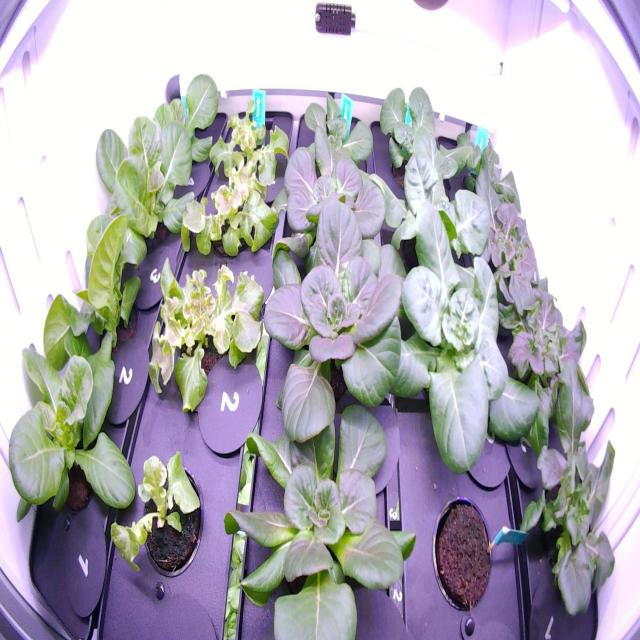pod: (427, 488, 498, 618)
young: (216, 383, 426, 640), (374, 194, 546, 483), (258, 194, 416, 451), (0, 303, 141, 534), (76, 108, 202, 290), (38, 200, 158, 374), (378, 121, 507, 277), (272, 124, 400, 265), (372, 79, 478, 190), (136, 65, 224, 183), (287, 83, 383, 181)
